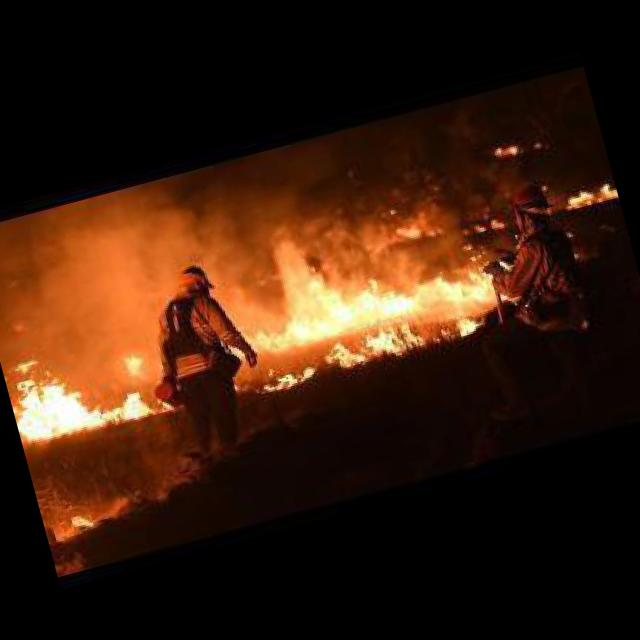Fire: (198, 171, 532, 400), (7, 333, 176, 450)
Smoke: (0, 162, 242, 379)
